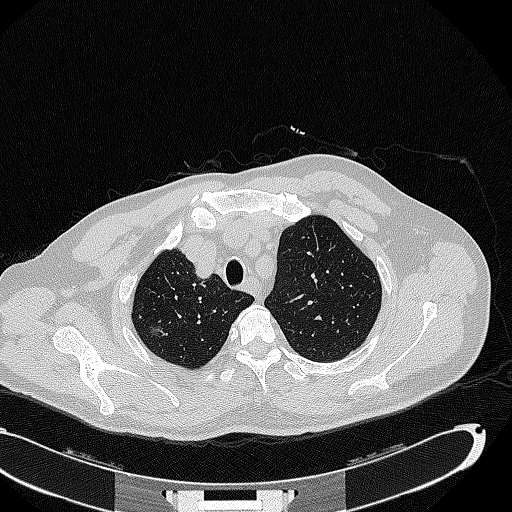nodule: (148, 325, 164, 337)
